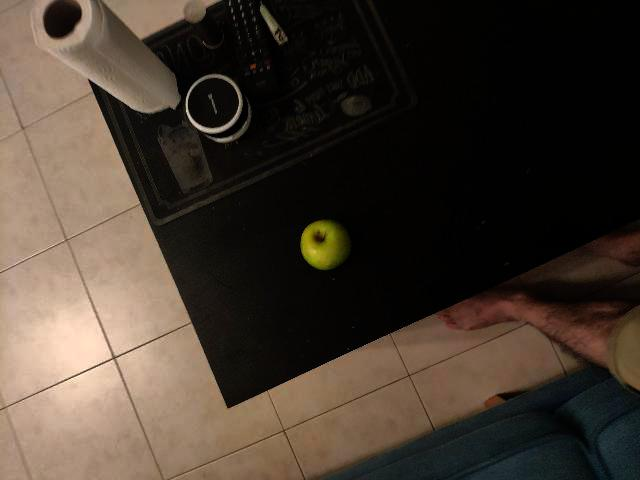apple: (204, 295, 271, 360)
